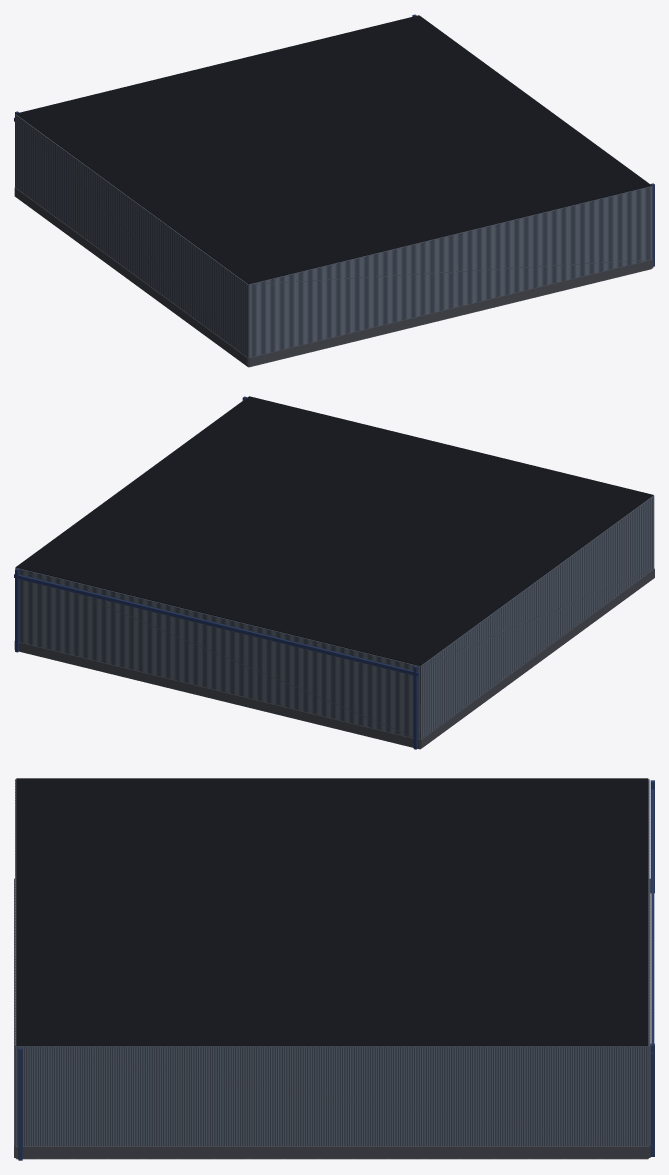
The model's file is garage_hall.glb.
3 renders of one model, top to bottom at view 1: azimuth 30°, elevation 25°; view 2: azimuth 150°, elevation 25°; view 3: azimuth 270°, elevation 25°, orthographic. The views are drawn at different scales.
Visible parts, largest first — view 1: hall_hall_roof, hall_hall_wall, hall_hall_block; view 2: hall_hall_roof, hall_hall_wall, hall_hall_block, hall_hall_beam; view 3: hall_hall_roof, hall_hall_wall, hall_hall_block, hall_hall_beam, hall_hall_floor.
Part boxes in pixels (x1,y1,x2,y2): hall_hall_roof: (16, 15, 651, 284); hall_hall_wall: (15, 16, 652, 357); hall_hall_block: (14, 187, 653, 366); hall_hall_roof: (16, 396, 653, 665); hall_hall_wall: (15, 397, 654, 739); hall_hall_block: (14, 568, 654, 748); hall_hall_beam: (14, 396, 418, 749); hall_hall_roof: (16, 778, 648, 1046); hall_hall_wall: (15, 779, 649, 1146); hall_hall_block: (14, 878, 650, 1158); hall_hall_beam: (18, 780, 654, 1160); hall_hall_floor: (16, 1158, 647, 1159).
Size of the model in its own units: 73 by 14.3 by 73.
18 materials, 3 textured.
